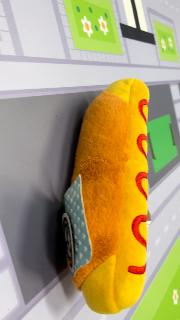hotdog: (62, 77, 150, 315)
